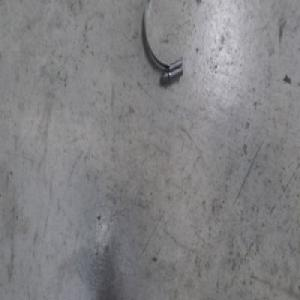AdjustableClamp: (142, 0, 197, 83)
